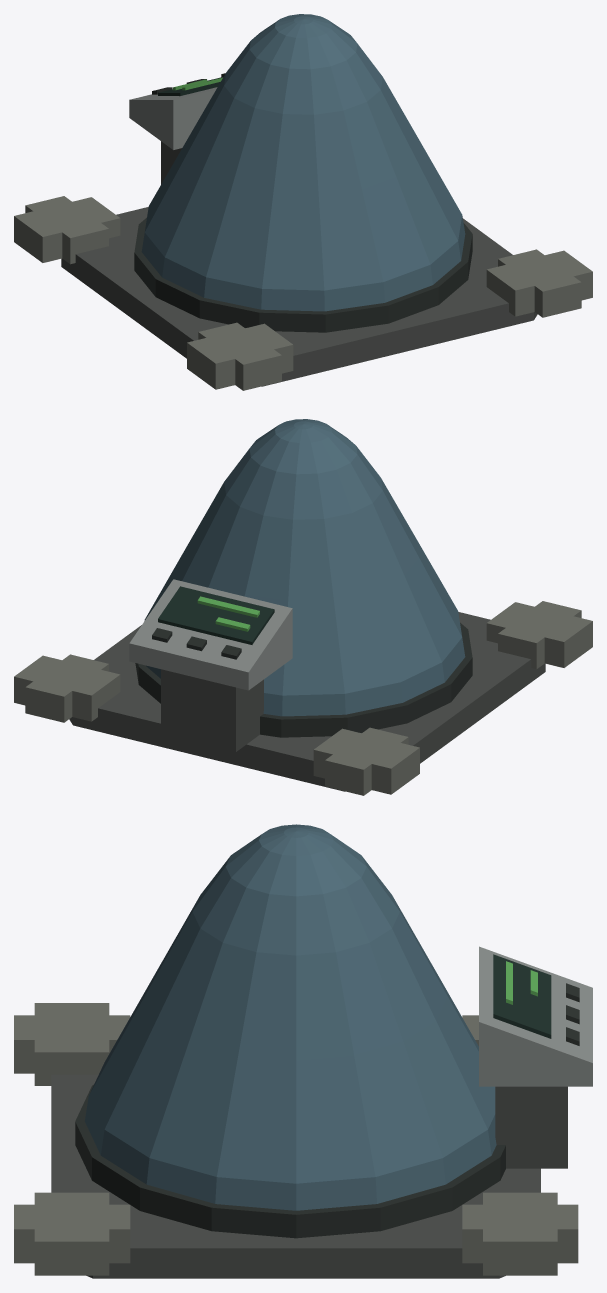
Rendered from gp_scanner.obj.
3 views of the same model, one above another, from view 1: azimuth 30°, elevation 25°; view 2: azimuth 150°, elevation 25°; view 3: azimuth 270°, elevation 25° (orthographic). The views are drawn at different scales.
Visible parts, largest first — view 1: gp_scanner; view 2: gp_scanner; view 3: gp_scanner.
Boxes of the visible parts, x1,y1,x2,y2 form: gp_scanner: [14, 14, 592, 390]; gp_scanner: [14, 419, 592, 795]; gp_scanner: [14, 824, 592, 1278].
Size of the model in its own units: 2.72 by 1.83 by 2.79.
